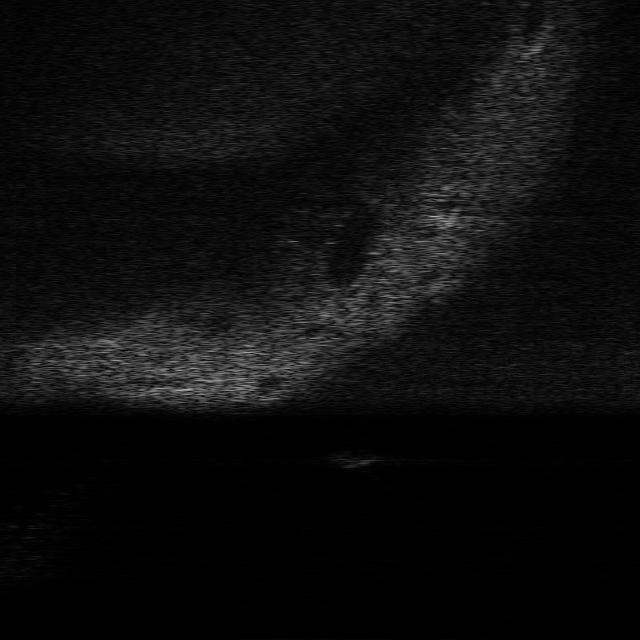cube: (329, 446, 380, 469)
